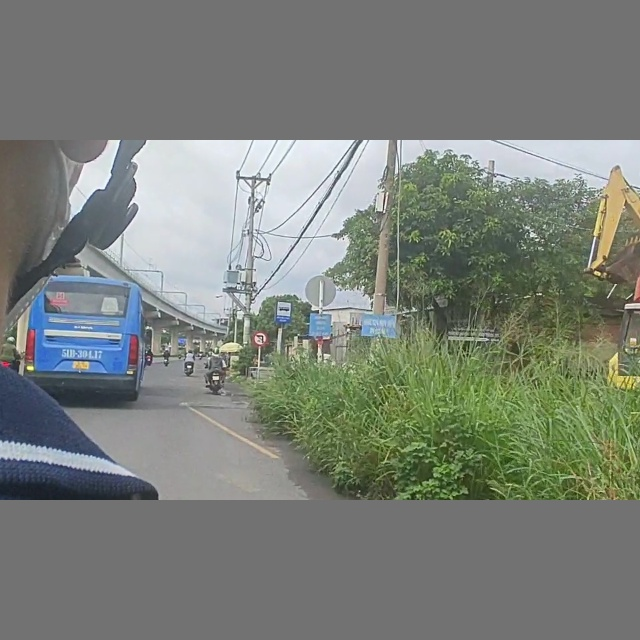I.434a: (275, 299, 293, 324)
P.123a: (253, 331, 269, 346)
